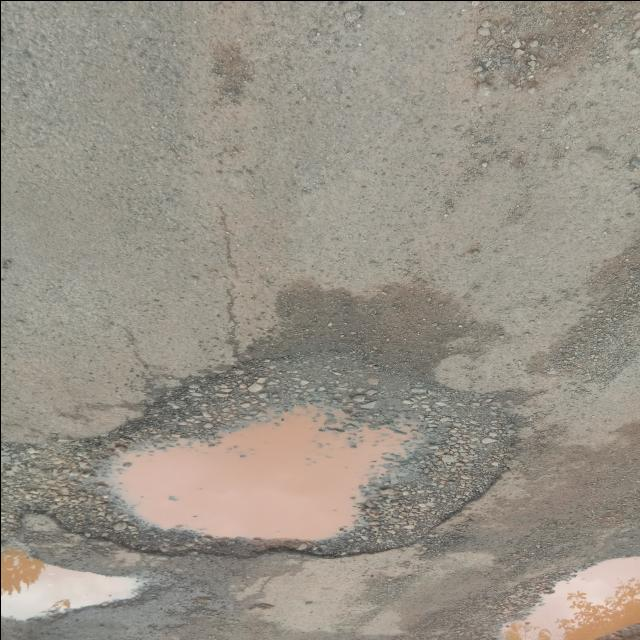potholes: (85, 366, 527, 560), (478, 545, 640, 639), (0, 536, 158, 626)
